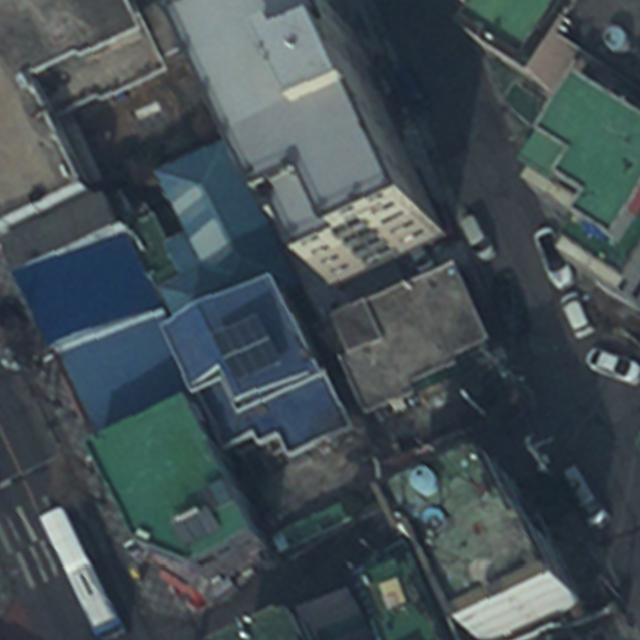panel: (210, 311, 283, 382)
